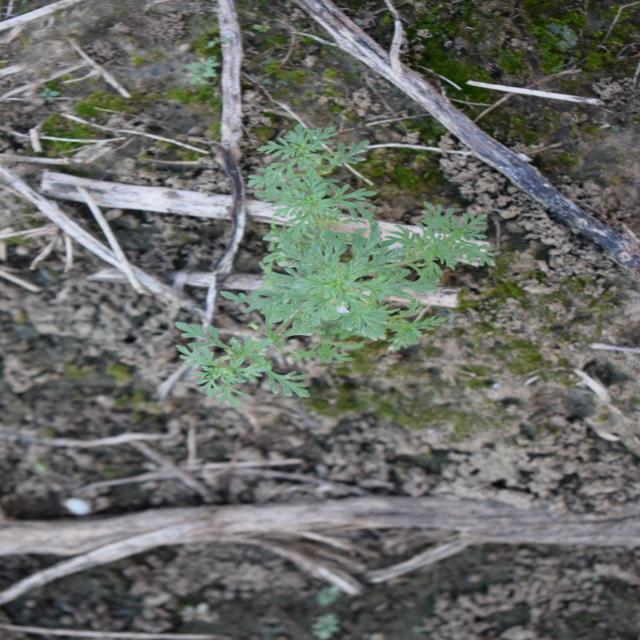Ragweed: (173, 123, 499, 411)
